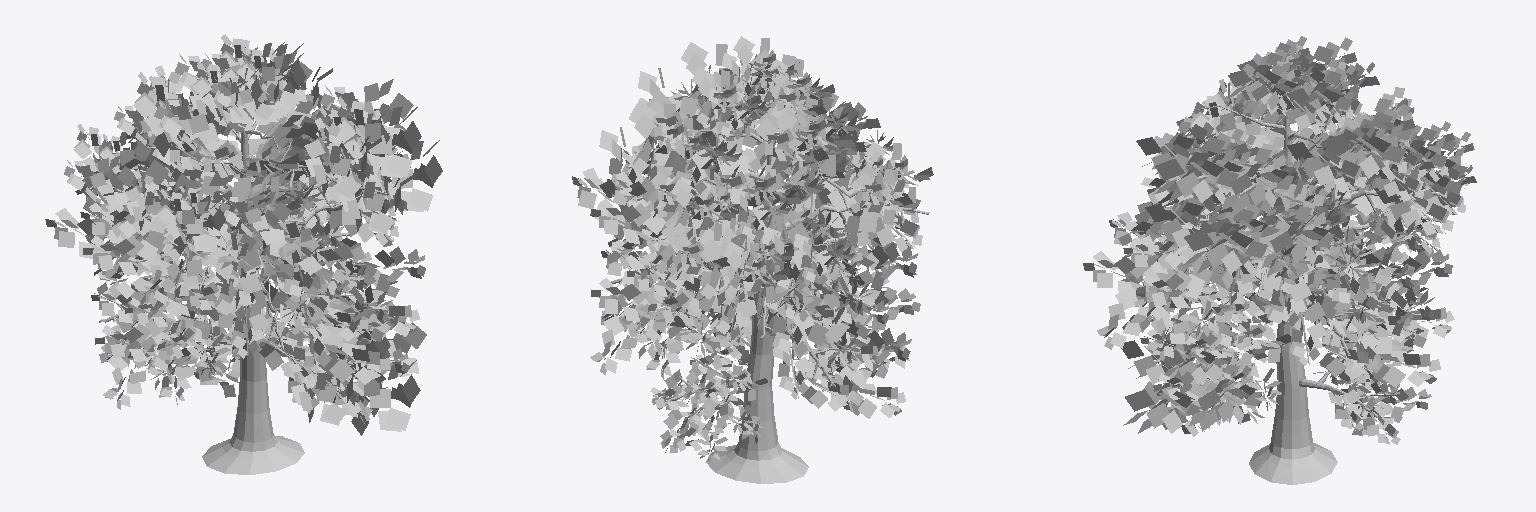
The model's file is tammi.obj.
The picture shows the model from 3 angles: view 1: azimuth 30°, elevation 25°; view 2: azimuth 150°, elevation 25°; view 3: azimuth 270°, elevation 25°; orthographic projection.
Visible parts, largest first — view 1: tammi.lwo; view 2: tammi.lwo; view 3: tammi.lwo.
Part boxes in pixels (left/top/right/bottom): tammi.lwo: left=45, top=34, right=442, bottom=474; tammi.lwo: left=572, top=36, right=933, bottom=483; tammi.lwo: left=1083, top=36, right=1476, bottom=484.
Bounding box in the file's own units: 33.65 × 40.95 × 35.61.